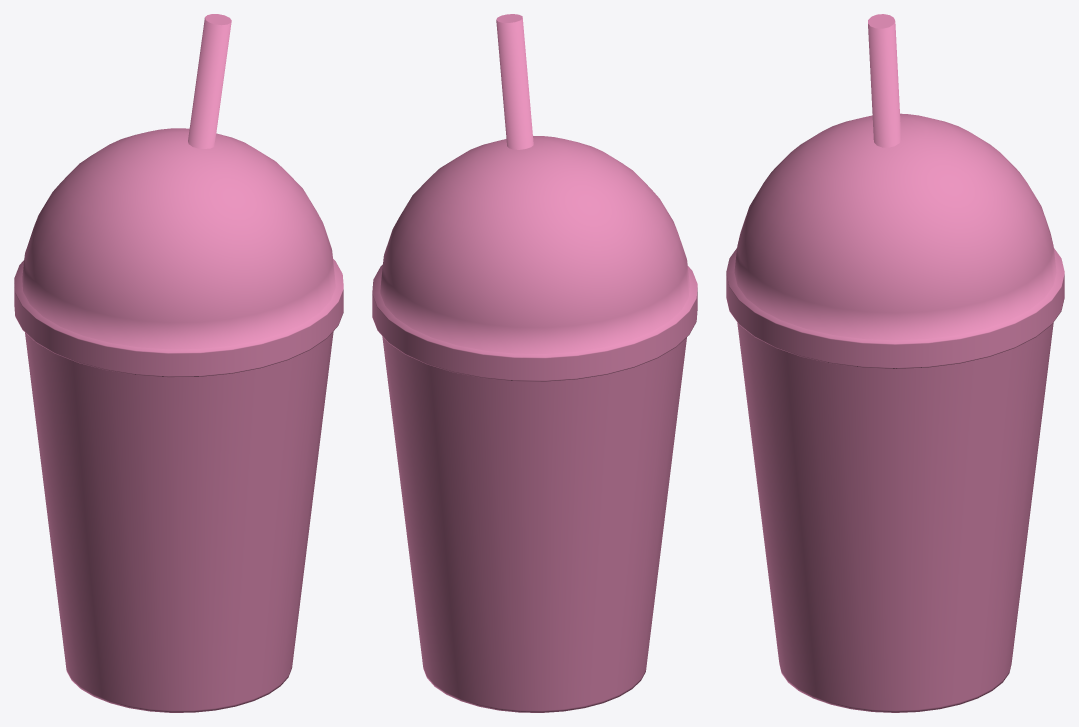
Rendered from CafeEspecial.fbx.
The picture shows the model from 3 angles, left to right: view 1: azimuth 30°, elevation 25°; view 2: azimuth 150°, elevation 25°; view 3: azimuth 270°, elevation 25°; orthographic projection. The views are drawn at different scales.
Parts seen in each view (by area): view 1: Cylinder, Cylinder.001, Cylinder.002; view 2: Cylinder, Cylinder.001, Cylinder.002; view 3: Cylinder, Cylinder.001, Cylinder.002.
Boxes of the visible parts, bbox=[...] form: Cylinder: bbox=[14, 259, 343, 712]; Cylinder.001: bbox=[22, 128, 335, 349]; Cylinder.002: bbox=[188, 14, 231, 148]; Cylinder: bbox=[372, 264, 697, 712]; Cylinder.001: bbox=[380, 136, 689, 353]; Cylinder.002: bbox=[496, 14, 533, 149]; Cylinder: bbox=[726, 248, 1064, 712]; Cylinder.001: bbox=[734, 113, 1056, 340]; Cylinder.002: bbox=[868, 14, 901, 147].
Size of the model in its own units: 210 by 452 by 210.
